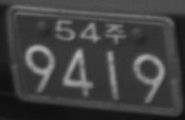1: (99, 50, 127, 100)
4: (61, 48, 93, 98), (79, 21, 101, 44)
5: (53, 18, 76, 41)
9: (131, 52, 166, 103), (24, 43, 56, 93)
주: (104, 22, 126, 45)
